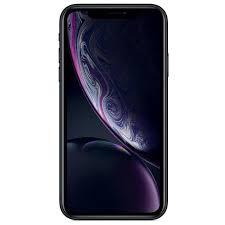Smartphone: (58, 4, 167, 225)
